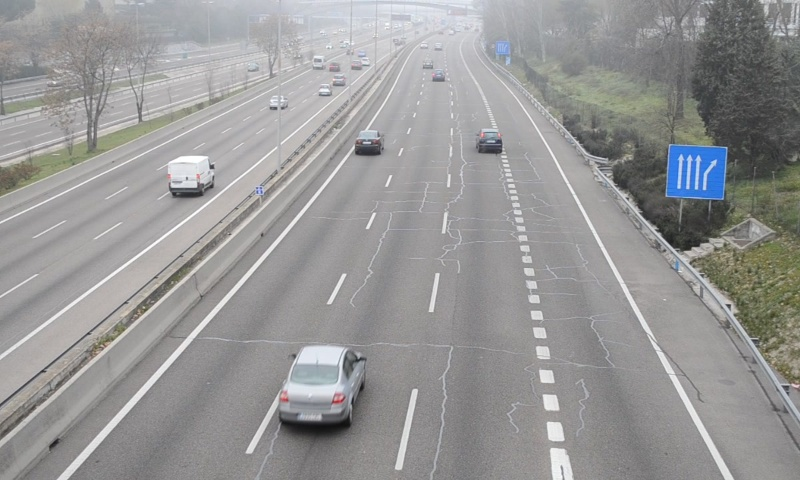car: (277, 346, 364, 426), (354, 129, 383, 154), (476, 128, 503, 152)
